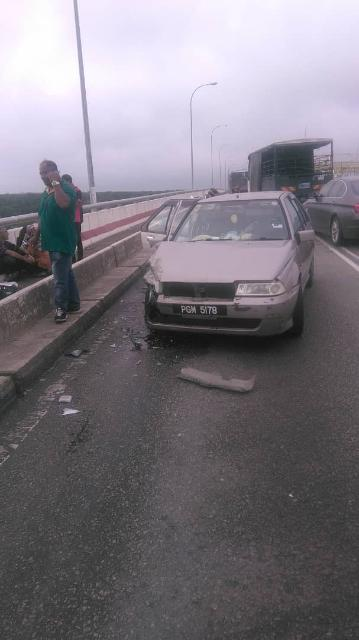License_Plate: (174, 300, 235, 319)
car: (139, 192, 309, 336)
